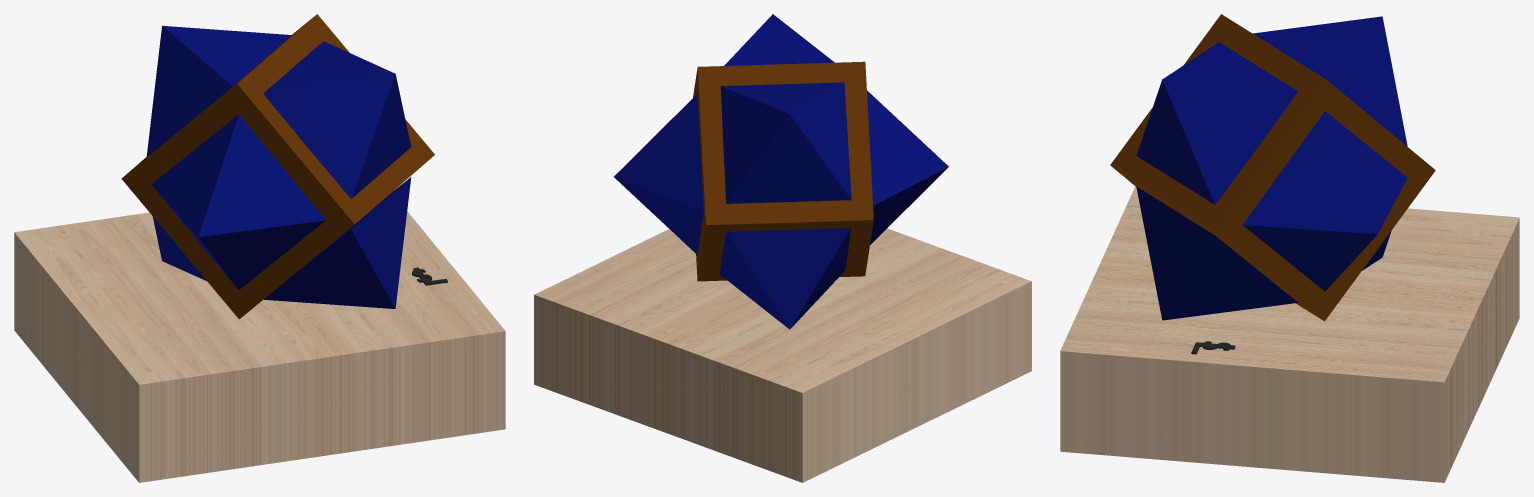
File: Obra3_stoer.glb
3 views of the same model, side by side, from view 1: azimuth 30°, elevation 25°; view 2: azimuth 150°, elevation 25°; view 3: azimuth 270°, elevation 25° (orthographic). The views are drawn at different scales.
Visible parts, largest first — view 1: Base, Piramides, Cubo; view 2: Base, Piramides, Cubo; view 3: Base, Piramides, Cubo.
Part boxes in pixels (left/top/right/bottom): Base: left=14, top=211, right=505, bottom=482; Piramides: left=146, top=25, right=411, bottom=308; Cubo: left=121, top=14, right=434, bottom=319; Base: left=534, top=228, right=1031, bottom=482; Piramides: left=614, top=14, right=948, bottom=329; Cubo: left=693, top=61, right=873, bottom=281; Base: left=1060, top=186, right=1519, bottom=482; Piramides: left=1136, top=16, right=1407, bottom=320; Cubo: left=1110, top=14, right=1435, bottom=321.
Bounding box in the file's own units: 16.63 × 13.54 × 16.46.
4 materials, 1 textured.
